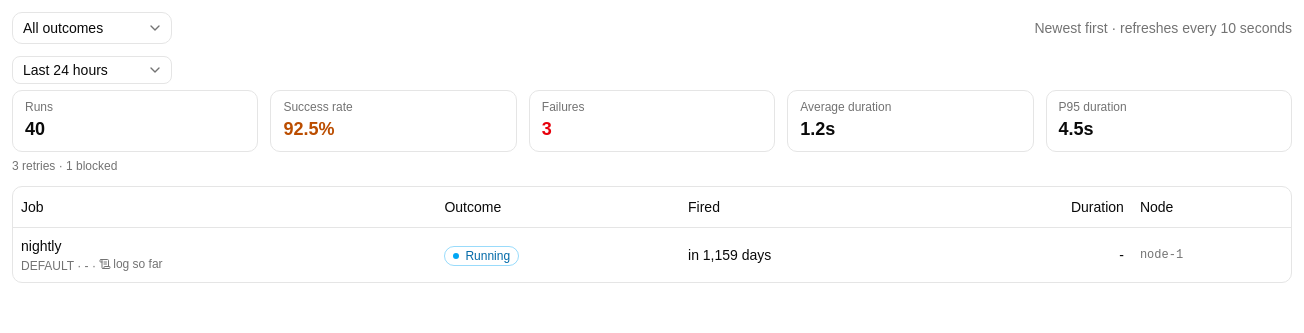
Test: HistoryTable › run log › does not read a live log again while a read is still waiting
Click the button "log so far" at (131, 264), box [99, 256, 163, 272]
Wait 7000 ms
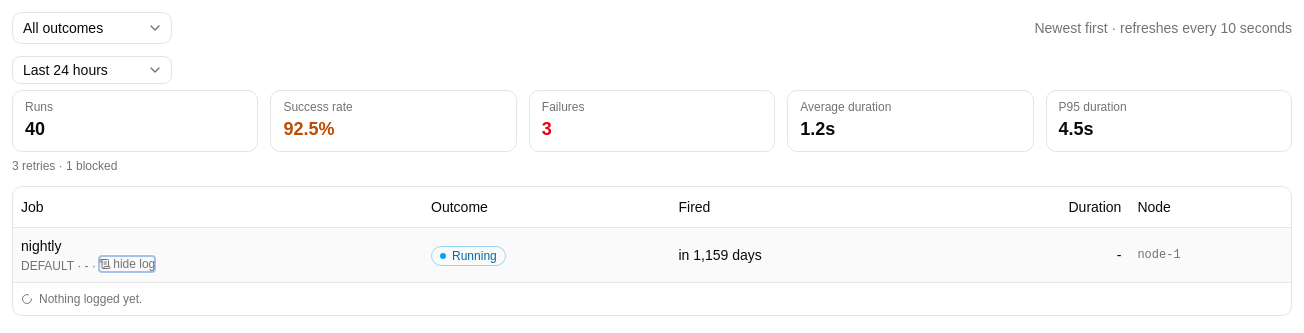
Expected: the text "Nothing logged yet." is shown, [21, 292, 142, 306]
